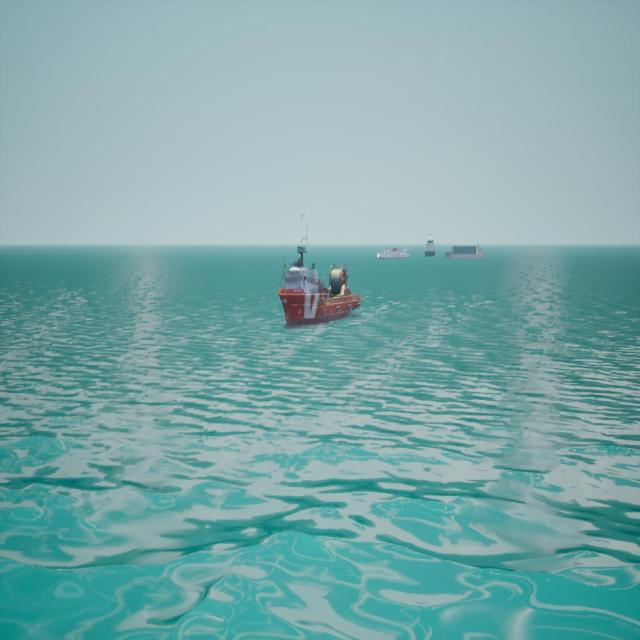tug boat: (279, 216, 360, 329)
